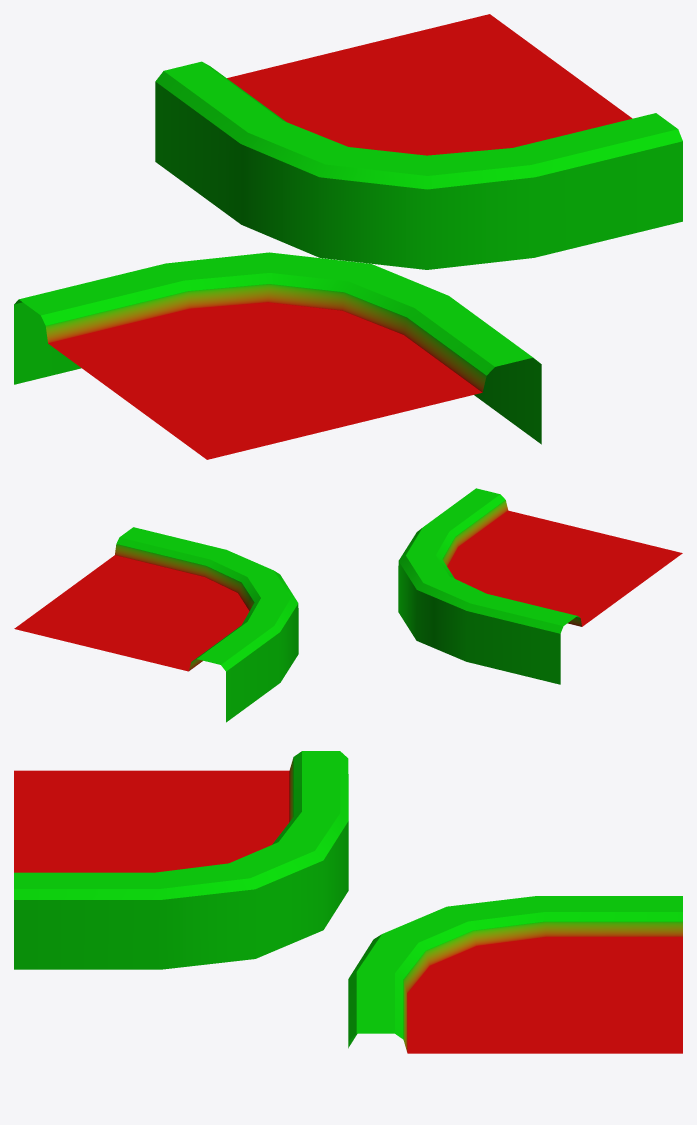
Rendered from NarrowRoad_DoubleCorner.fbx.
3 views of the same model, one above another, from view 1: azimuth 30°, elevation 25°; view 2: azimuth 150°, elevation 25°; view 3: azimuth 270°, elevation 25° (orthographic). The views are drawn at different scales.
Visible parts, largest first — view 1: NarrowRoad_DoubleCorner; view 2: NarrowRoad_DoubleCorner; view 3: NarrowRoad_DoubleCorner.
Part boxes in pixels (x1,y1,x2,y2): NarrowRoad_DoubleCorner: (14,14,682,459); NarrowRoad_DoubleCorner: (14,488,682,722); NarrowRoad_DoubleCorner: (14,751,682,1053).
Bounding box in the file's own units: 200 × 200 × 25.42.
